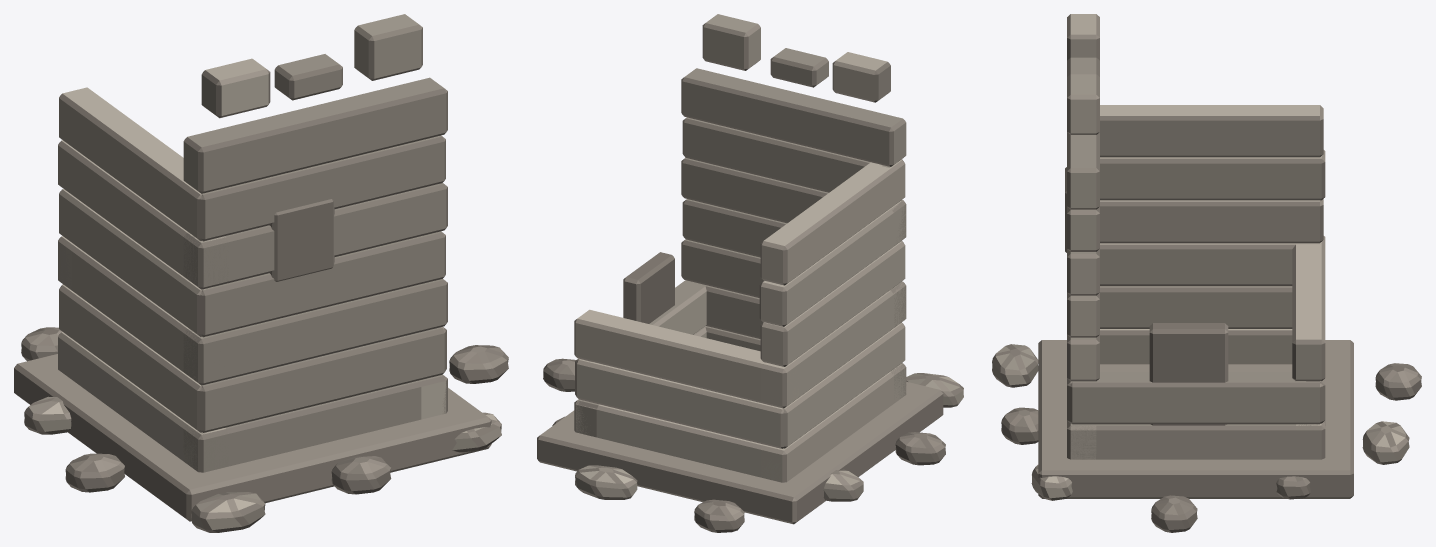
Rendered from SM_Kit_torre_ruina.fbx.
3 renders of one model, left to right at view 1: azimuth 30°, elevation 25°; view 2: azimuth 150°, elevation 25°; view 3: azimuth 270°, elevation 25°, orthographic. The views are drawn at different scales.
Parts seen in each view (by area): view 1: SM_Kit_torre_ruina; view 2: SM_Kit_torre_ruina; view 3: SM_Kit_torre_ruina.
Boxes of the visible parts, x1,y1,x2,y2 form: SM_Kit_torre_ruina: (14, 14, 508, 532); SM_Kit_torre_ruina: (537, 14, 963, 532); SM_Kit_torre_ruina: (992, 14, 1421, 532).
Size of what is drawn, in the model's own units: 649 by 587 by 599.
